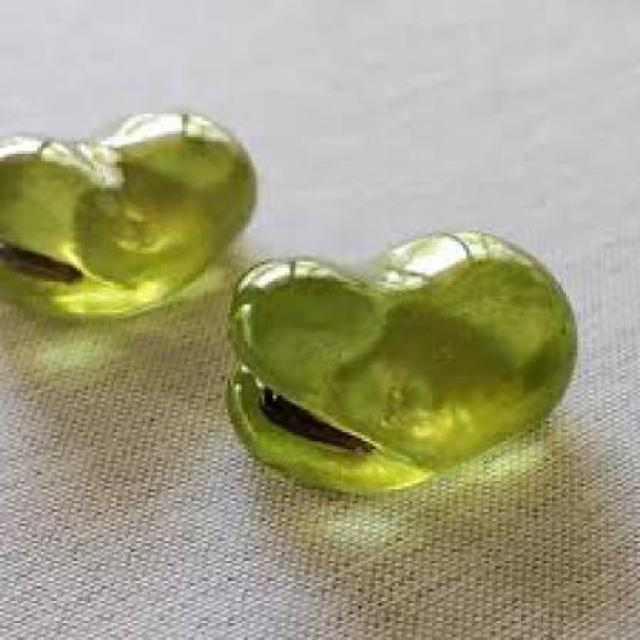kaca: (222, 231, 576, 495), (0, 111, 254, 318)
